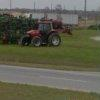Tractor: (20, 14, 82, 58)
